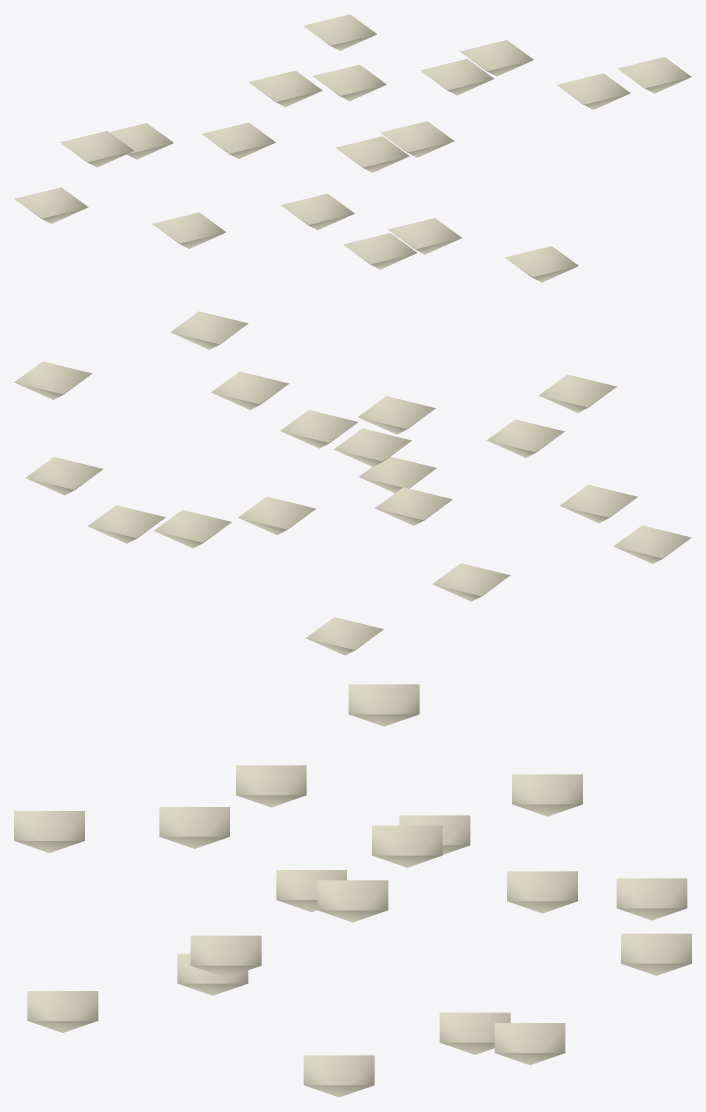
The picture shows the model from 3 angles, top to bottom: view 1: azimuth 30°, elevation 25°; view 2: azimuth 150°, elevation 25°; view 3: azimuth 270°, elevation 25°; orthographic projection. The views are drawn at different scales.
Visible parts, largest first — view 1: Object13; view 2: Object13; view 3: Object13.
Boxes of the visible parts, <box> form: Object13: <box>14,14,691,282</box>; Object13: <box>14,311,691,655</box>; Object13: <box>14,684,691,1097</box>.
Size of the model in its own units: 149 by 26.94 by 107.
